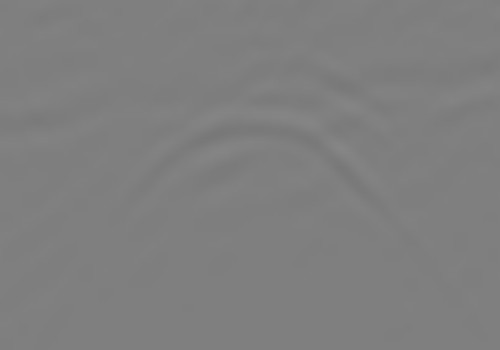hyperbola: (108, 91, 406, 251)
